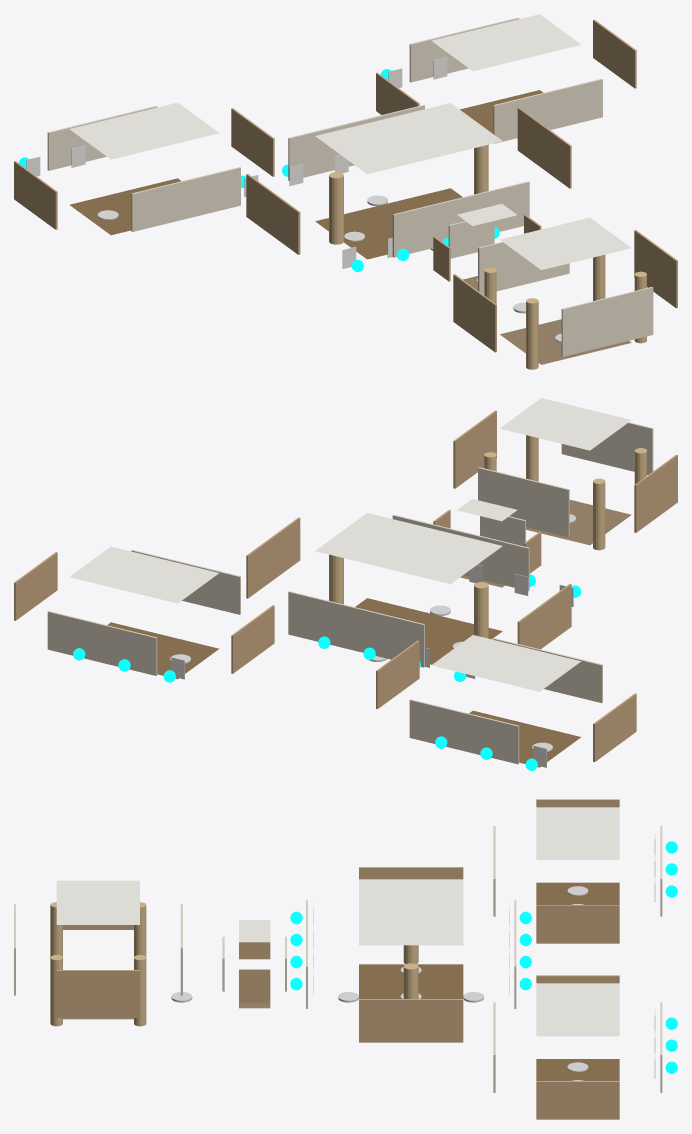
File: mcn_museum.glb
3 views of the same model, one above another, from view 1: azimuth 30°, elevation 25°; view 2: azimuth 150°, elevation 25°; view 3: azimuth 270°, elevation 25° (orthographic).
Visible parts, largest first — view 1: Main_Gallery_Ceiling, Entrance_Hall_Wall_South, Gallery_Side_B_Ceiling, Gallery_Side_A_Ceiling, Main_Gallery_Wall_South, Gallery_Side_A_Wall_South, Gallery_Side_B_Wall_South, Entrance_Hall_Ceiling, Main_Gallery_Floor, Main_Gallery_Wall_East, Main_Gallery_Wall_West, Entrance_Hall_Wall_North (+19 smaller); view 2: Main_Gallery_Ceiling, Main_Gallery_Wall_North, Gallery_Side_B_Ceiling, Gallery_Side_A_Ceiling, Gallery_Side_B_Wall_North, Gallery_Side_A_Wall_North, Entrance_Hall_Wall_North, Entrance_Hall_Ceiling, Main_Gallery_Floor, Main_Gallery_Wall_East, Entrance_Hall_Wall_South, Main_Gallery_Wall_South (+18 smaller); view 3: Main_Gallery_Ceiling, Main_Gallery_Wall_East, Gallery_Side_B_Ceiling, Gallery_Side_A_Ceiling, Entrance_Hall_Wall_East, Entrance_Hall_Ceiling, Gallery_Side_A_Wall_East, Gallery_Side_B_Wall_East, Main_Gallery_Floor, Gallery_Side_A_Floor, Gallery_Side_B_Floor, Main_Gallery_Wall_West (+10 smaller).
Boxes of the visible parts, x1=… form: Main_Gallery_Ceiling: x1=315, y1=103, x2=502, y2=174; Entrance_Hall_Wall_South: x1=561, y1=287, x2=653, y2=356; Gallery_Side_B_Ceiling: x1=431, y1=14, x2=580, y2=71; Gallery_Side_A_Ceiling: x1=69, y1=102, x2=218, y2=159; Main_Gallery_Wall_South: x1=392, y1=181, x2=529, y2=257; Gallery_Side_A_Wall_South: x1=131, y1=167, x2=240, y2=231; Gallery_Side_B_Wall_South: x1=493, y1=78, x2=602, y2=143; Entrance_Hall_Ceiling: x1=500, y1=217, x2=631, y2=269; Main_Gallery_Floor: x1=315, y1=188, x2=462, y2=259; Main_Gallery_Wall_East: x1=517, y1=107, x2=571, y2=188; Main_Gallery_Wall_West: x1=246, y1=174, x2=300, y2=254; Entrance_Hall_Wall_North: x1=478, y1=241, x2=569, y2=294; Main_Gallery_Ceiling: x1=315, y1=513, x2=502, y2=583; Main_Gallery_Wall_North: x1=288, y1=591, x2=424, y2=667; Gallery_Side_B_Ceiling: x1=69, y1=546, x2=218, y2=603; Gallery_Side_A_Ceiling: x1=431, y1=635, x2=580, y2=691; Gallery_Side_B_Wall_North: x1=47, y1=611, x2=157, y2=675; Gallery_Side_A_Wall_North: x1=409, y1=699, x2=519, y2=764; Entrance_Hall_Wall_North: x1=478, y1=467, x2=569, y2=537; Entrance_Hall_Ceiling: x1=500, y1=398, x2=631, y2=450; Main_Gallery_Floor: x1=355, y1=598, x2=502, y2=664; Main_Gallery_Wall_East: x1=246, y1=517, x2=300, y2=598; Entrance_Hall_Wall_South: x1=561, y1=422, x2=653, y2=474; Main_Gallery_Wall_South: x1=392, y1=515, x2=529, y2=590; Main_Gallery_Ceiling: x1=359, y1=879, x2=463, y2=945; Main_Gallery_Wall_East: x1=359, y1=999, x2=463, y2=1042; Gallery_Side_B_Ceiling: x1=536, y1=983, x2=619, y2=1036; Gallery_Side_A_Ceiling: x1=536, y1=807, x2=619, y2=859; Entrance_Hall_Wall_East: x1=56, y1=970, x2=139, y2=1017; Entrance_Hall_Ceiling: x1=56, y1=880, x2=139, y2=924; Gallery_Side_A_Wall_East: x1=536, y1=905, x2=619, y2=943; Gallery_Side_B_Wall_East: x1=536, y1=1081, x2=619, y2=1119; Main_Gallery_Floor: x1=359, y1=964, x2=463, y2=998; Gallery_Side_A_Floor: x1=536, y1=882, x2=619, y2=904; Gallery_Side_B_Floor: x1=536, y1=1059, x2=619, y2=1080; Main_Gallery_Wall_West: x1=359, y1=867, x2=463, y2=879.
Size of the model in its own units: 32.1 by 5.05 by 31.85.
